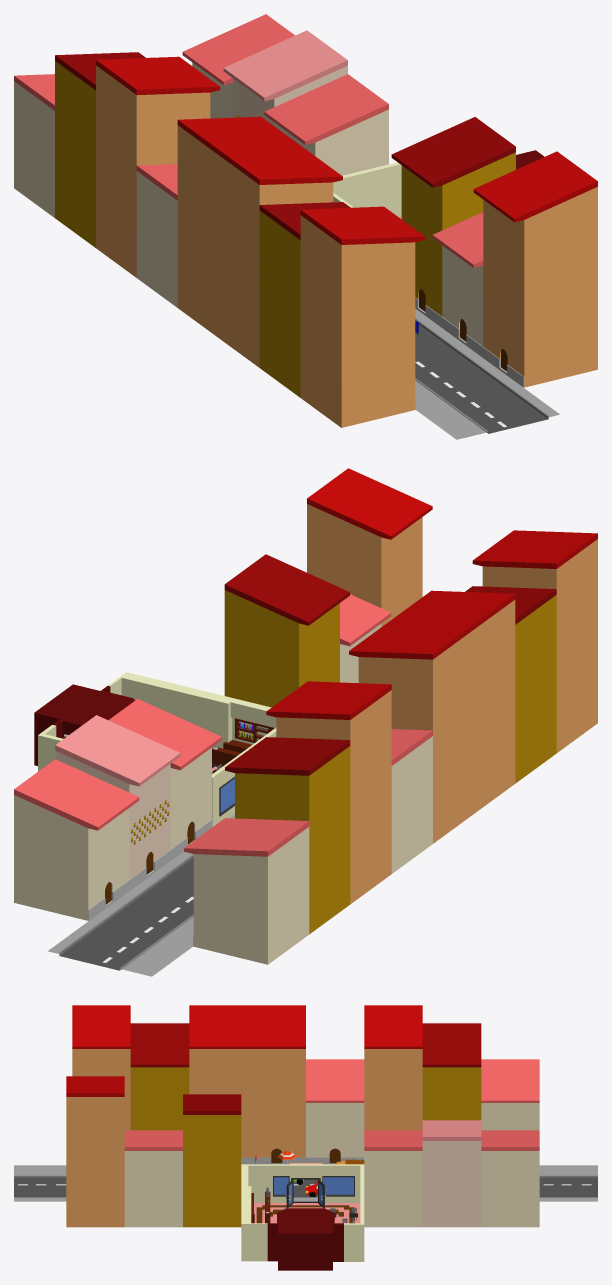
Rendered from EscenarioComportamientos.fbx.
The picture shows the model from 3 angles, top to bottom: view 1: azimuth 30°, elevation 25°; view 2: azimuth 150°, elevation 25°; view 3: azimuth 270°, elevation 25°; orthographic projection. The views are drawn at different scales.
Parts seen in each view (by area): view 1: CasaNadaA1, CasaNadaA3, CasaNadaA5, CasaNadaA2, CasaNadaC1, CasaNadaA4, CasaNadaB3, CasaNadaC2, CasaNadaC3, CasaConcha, CasaNadaB2, CasaNadaB4 (+6 smaller); view 2: CasaNadaB5, CasaNadaB4, CasaNadaA4, CasaNadaC1, CasaNadaC3, CasaNadaA1, CasaNadaA5, CasaNadaA3, Componen33, CasaNadaA2, CasaConcha, CasaNadaC2 (+6 smaller); view 3: Componen33, CasaNadaA4, CasaNadaA1, CasaNadaC1, CasaNadaA5, CasaConcha, CasaNadaC2, CasaNadaB2, CasaNadaC3, CasaNadaA2, CasaNadaB3, CasaNadaB5 (+6 smaller).
Boxes of the visible parts, left/top/right/bottom form: CasaNadaA1: left=473, top=151, right=597, bottom=387; CasaNadaA3: left=300, top=206, right=424, bottom=427; CasaNadaA5: left=96, top=56, right=220, bottom=277; CasaNadaA2: left=218, top=146, right=342, bottom=367; CasaNadaC1: left=391, top=117, right=515, bottom=327; CasaNadaA4: left=177, top=116, right=301, bottom=337; CasaNadaB3: left=264, top=74, right=388, bottom=175; CasaNadaC2: left=259, top=202, right=350, bottom=397; CasaNadaC3: left=55, top=52, right=145, bottom=247; CasaConcha: left=223, top=30, right=347, bottom=125; CasaNadaB2: left=136, top=164, right=177, bottom=307; CasaNadaB4: left=14, top=74, right=54, bottom=217; CasaNadaB5: left=14, top=759, right=139, bottom=920; CasaNadaB4: left=184, top=818, right=309, bottom=964; CasaNadaA4: left=349, top=621, right=474, bottom=843; CasaNadaC1: left=224, top=554, right=349, bottom=707; CasaNadaC3: left=225, top=737, right=350, bottom=934; CasaNadaA1: left=307, top=468, right=432, bottom=626; CasaNadaA5: left=266, top=681, right=391, bottom=904; CasaNadaA3: left=472, top=530, right=597, bottom=752; Componen33: left=34, top=672, right=276, bottom=826; CasaNadaA2: left=390, top=590, right=515, bottom=813; CasaConcha: left=55, top=715, right=180, bottom=890; CasaNadaC2: left=465, top=586, right=556, bottom=783; Componen33: left=241, top=1163, right=364, bottom=1270; CasaNadaA4: left=247, top=1005, right=305, bottom=1164; CasaNadaA1: left=66, top=1076, right=124, bottom=1227; CasaNadaC1: left=183, top=1094, right=241, bottom=1227; CasaNadaA5: left=364, top=1005, right=422, bottom=1130; CasaConcha: left=422, top=1120, right=481, bottom=1227; CasaNadaC2: left=130, top=1023, right=189, bottom=1130; CasaNadaB2: left=306, top=1059, right=364, bottom=1164; CasaNadaC3: left=422, top=1023, right=481, bottom=1120; CasaNadaA2: left=189, top=1005, right=247, bottom=1164; CasaNadaB3: left=364, top=1130, right=422, bottom=1227; CasaNadaB5: left=481, top=1130, right=539, bottom=1227.
Size of the model in its own units: 2242 by 1096 by 4219.
